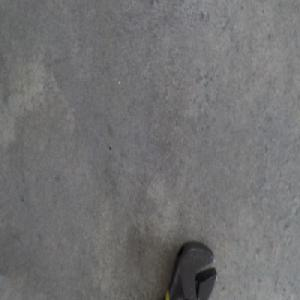AdjustableWrench: (162, 242, 218, 299)
